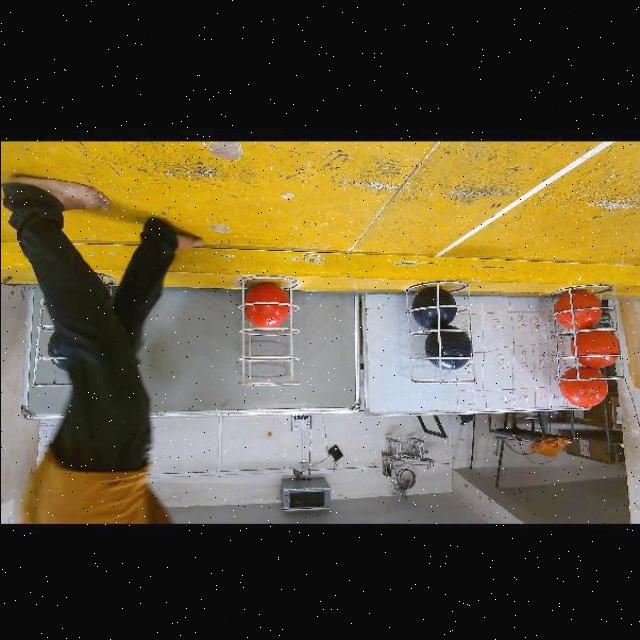P: (424, 325, 471, 370), (410, 285, 456, 329)
R: (243, 281, 289, 326), (559, 365, 607, 406), (554, 289, 602, 329), (570, 329, 619, 367)
S: (229, 272, 295, 388), (556, 284, 624, 384), (410, 281, 476, 381)
